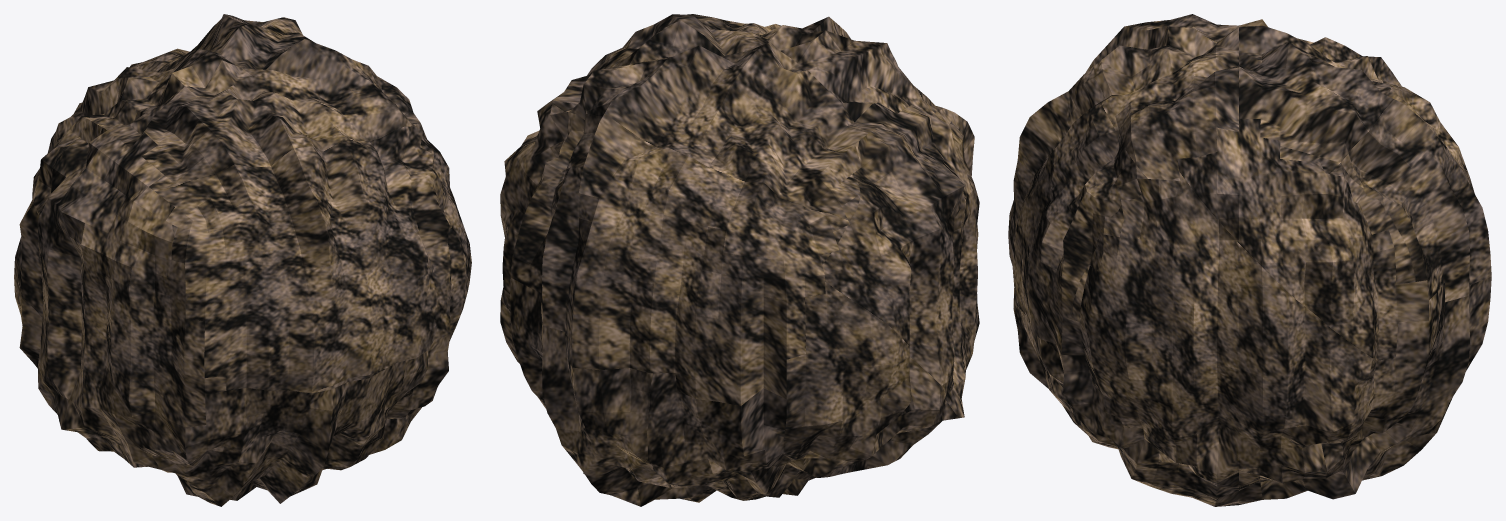
Rendered from asteroid185.obj.
The picture shows the model from 3 angles, left to right: view 1: azimuth 30°, elevation 25°; view 2: azimuth 150°, elevation 25°; view 3: azimuth 270°, elevation 25°; orthographic projection. The views are drawn at different scales.
Visible parts, largest first — view 1: Cube_Cube.002; view 2: Cube_Cube.002; view 3: Cube_Cube.002.
Boxes of the visible parts, box(x1,y1,x2,y2) form: Cube_Cube.002: box(14, 14, 471, 506); Cube_Cube.002: box(500, 14, 979, 506); Cube_Cube.002: box(1008, 14, 1491, 506).
Size of the model in its own units: 1.75 by 1.82 by 1.79.
